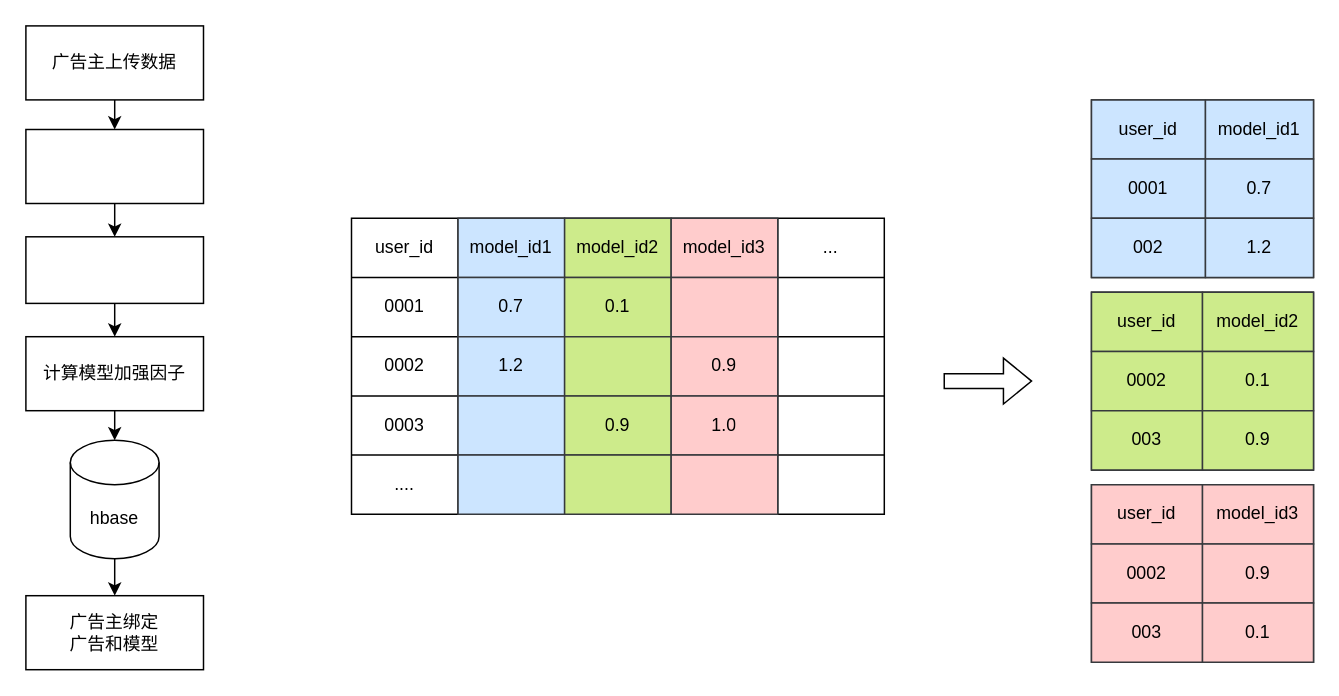
This 1339x696 diagram has some shape labels left out. The box of each missing label's shape, as (x1, y1, x2, y2) in pixels:
模型训练: (24, 235, 204, 303)
设计训练数据: (24, 128, 204, 204)
